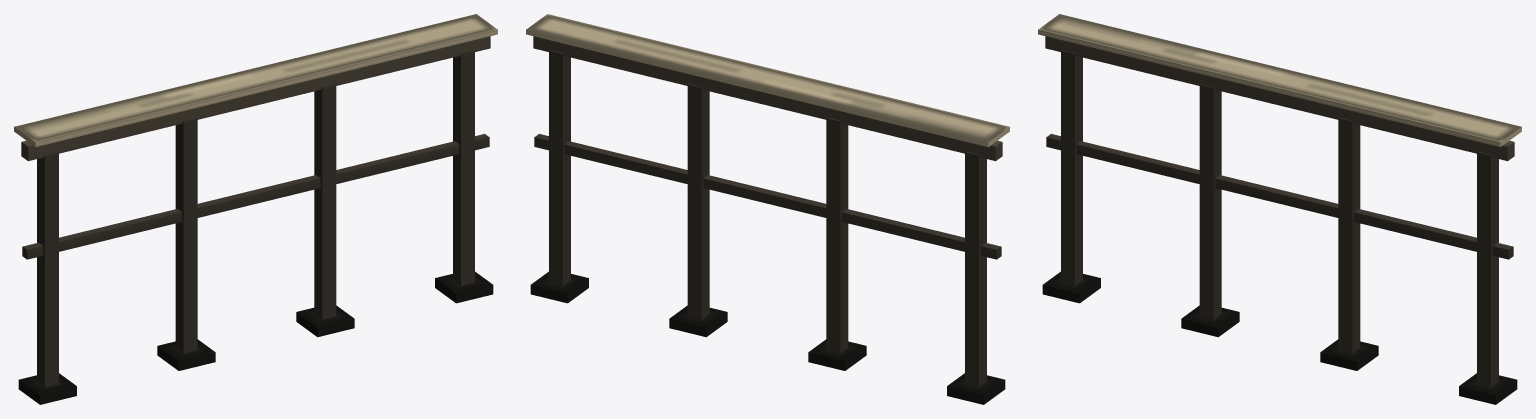
Rendered from RailingRun.obj.
The picture shows the model from 3 angles, left to right: view 1: azimuth 30°, elevation 25°; view 2: azimuth 150°, elevation 25°; view 3: azimuth 330°, elevation 25°; orthographic projection.
Visible parts, largest first — view 1: RailingRun; view 2: RailingRun; view 3: RailingRun.
Boxes of the visible parts, x1=… form: RailingRun: x1=14, y1=14, x2=497, y2=404; RailingRun: x1=526, y1=14, x2=1009, y2=404; RailingRun: x1=1038, y1=14, x2=1521, y2=404.
Bounding box in the file's own units: 2 × 1.09 × 0.16.
1 material, 1 textured.
